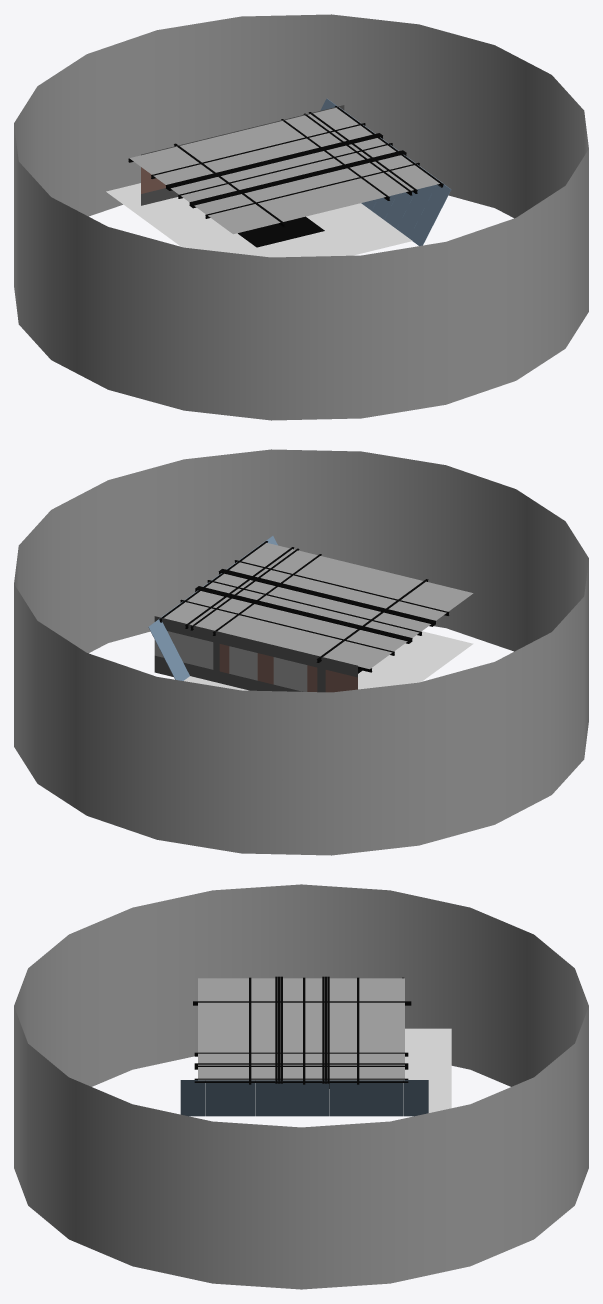
Rendered from garage8.fbx.
The picture shows the model from 3 angles, top to bottom: view 1: azimuth 30°, elevation 25°; view 2: azimuth 150°, elevation 25°; view 3: azimuth 270°, elevation 25°; orthographic projection.
Visible parts, largest first — view 1: pCylinder1, polySurface10, polySurface27; view 2: pCylinder1, polySurface10, polySurface27; view 3: pCylinder1, polySurface10, polySurface27.
Boxes of the visible parts, x1,y1,x2,y2 form: pCylinder1: [14, 14, 588, 420]; polySurface10: [106, 105, 442, 257]; polySurface27: [128, 98, 451, 247]; pCylinder1: [14, 449, 588, 855]; polySurface10: [154, 542, 473, 692]; polySurface27: [148, 536, 449, 680]; pCylinder1: [14, 884, 588, 1289]; polySurface10: [198, 978, 451, 1115]; polySurface27: [180, 976, 428, 1116].
Bounding box in the file's own units: 1.61 × 0.5023 × 1.61.
